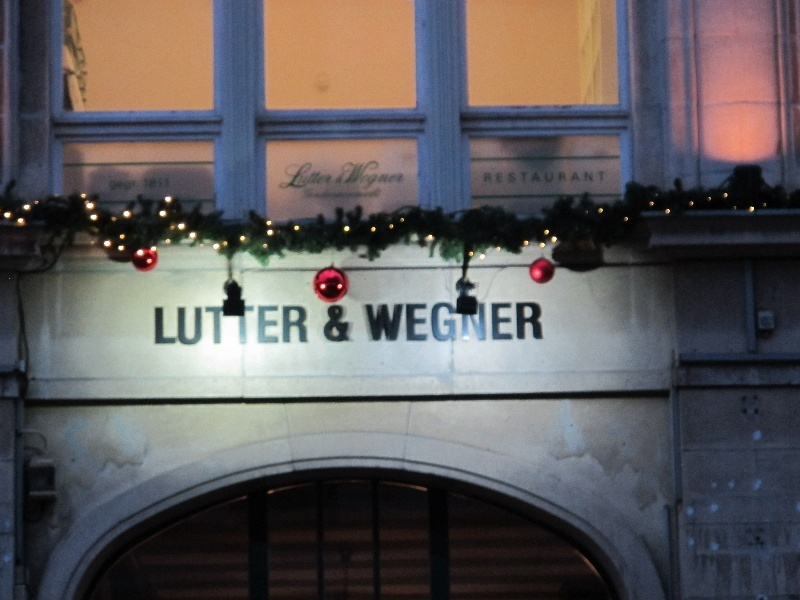text: (529, 301, 545, 346), (161, 301, 176, 346), (177, 301, 192, 346), (193, 301, 208, 346), (209, 301, 224, 346), (225, 301, 240, 346), (241, 301, 256, 346), (257, 301, 272, 346), (273, 301, 288, 346), (289, 301, 304, 346), (305, 301, 320, 346), (321, 301, 336, 346), (337, 301, 352, 346), (353, 301, 368, 346), (369, 301, 384, 346), (385, 301, 400, 346), (401, 301, 416, 346), (417, 301, 432, 346), (433, 301, 448, 346), (449, 301, 464, 346), (465, 301, 480, 346), (481, 301, 496, 346), (497, 301, 512, 346), (513, 301, 528, 346), (289, 161, 304, 190), (305, 161, 320, 190), (321, 161, 336, 190), (337, 161, 352, 190), (353, 161, 368, 190), (369, 161, 384, 190), (385, 161, 400, 190), (154, 301, 160, 346), (280, 161, 288, 190), (497, 169, 512, 183), (513, 169, 528, 183), (529, 169, 544, 183), (545, 169, 560, 183), (561, 169, 576, 183), (577, 169, 592, 183), (593, 169, 607, 183), (483, 169, 496, 183), (113, 179, 128, 191), (145, 177, 160, 188), (305, 189, 320, 199), (321, 189, 336, 199), (337, 189, 352, 199), (353, 189, 368, 199), (401, 161, 406, 190), (129, 179, 139, 191), (369, 189, 381, 199), (161, 177, 169, 188), (109, 179, 112, 191)
